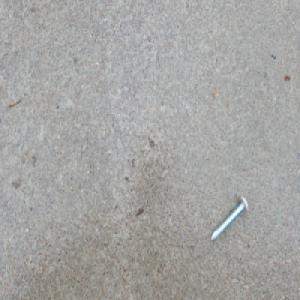Nail: (209, 192, 249, 241)
